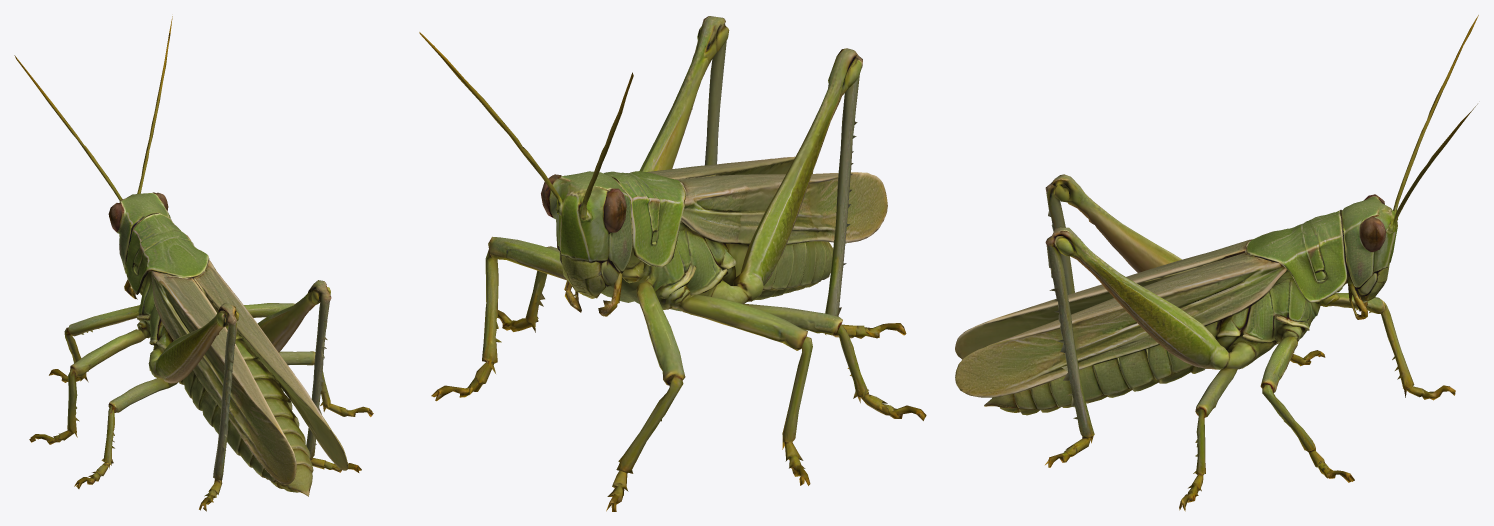
Rendered from grasshopper-tripo-h31.glb.
The picture shows the model from 3 angles, left to right: view 1: azimuth 30°, elevation 25°; view 2: azimuth 150°, elevation 25°; view 3: azimuth 270°, elevation 25°; orthographic projection. The views are drawn at different scales.
Visible parts, largest first — view 1: tripo_node_273b5135-48d5-4c9f-82be-c701a5ed7d72; view 2: tripo_node_273b5135-48d5-4c9f-82be-c701a5ed7d72; view 3: tripo_node_273b5135-48d5-4c9f-82be-c701a5ed7d72.
Part boxes in pixels (x1,y1,x2,y2): tripo_node_273b5135-48d5-4c9f-82be-c701a5ed7d72: (14,16,373,511); tripo_node_273b5135-48d5-4c9f-82be-c701a5ed7d72: (419,16,926,511); tripo_node_273b5135-48d5-4c9f-82be-c701a5ed7d72: (955,15,1478,511).
Bounding box in the file's own units: 0.7452 × 0.7726 × 0.9804.
Materials: 1 (1 with a texture image).
